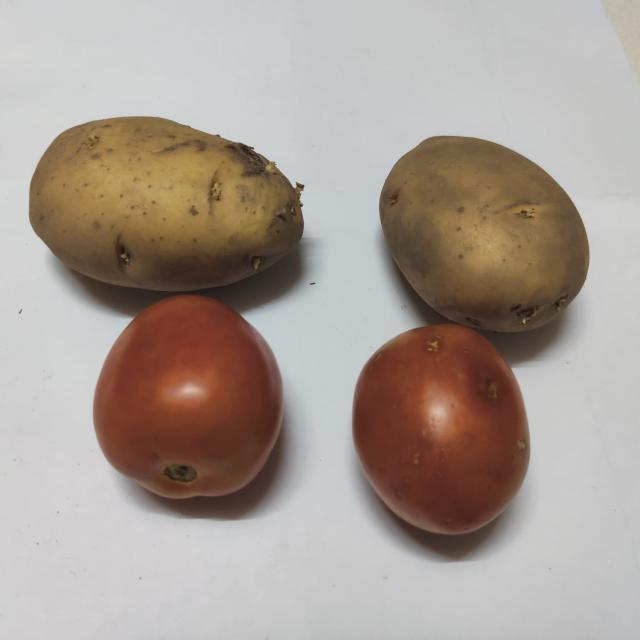Organik: (3, 102, 320, 299), (368, 115, 602, 353), (338, 314, 562, 555), (87, 276, 305, 519)
